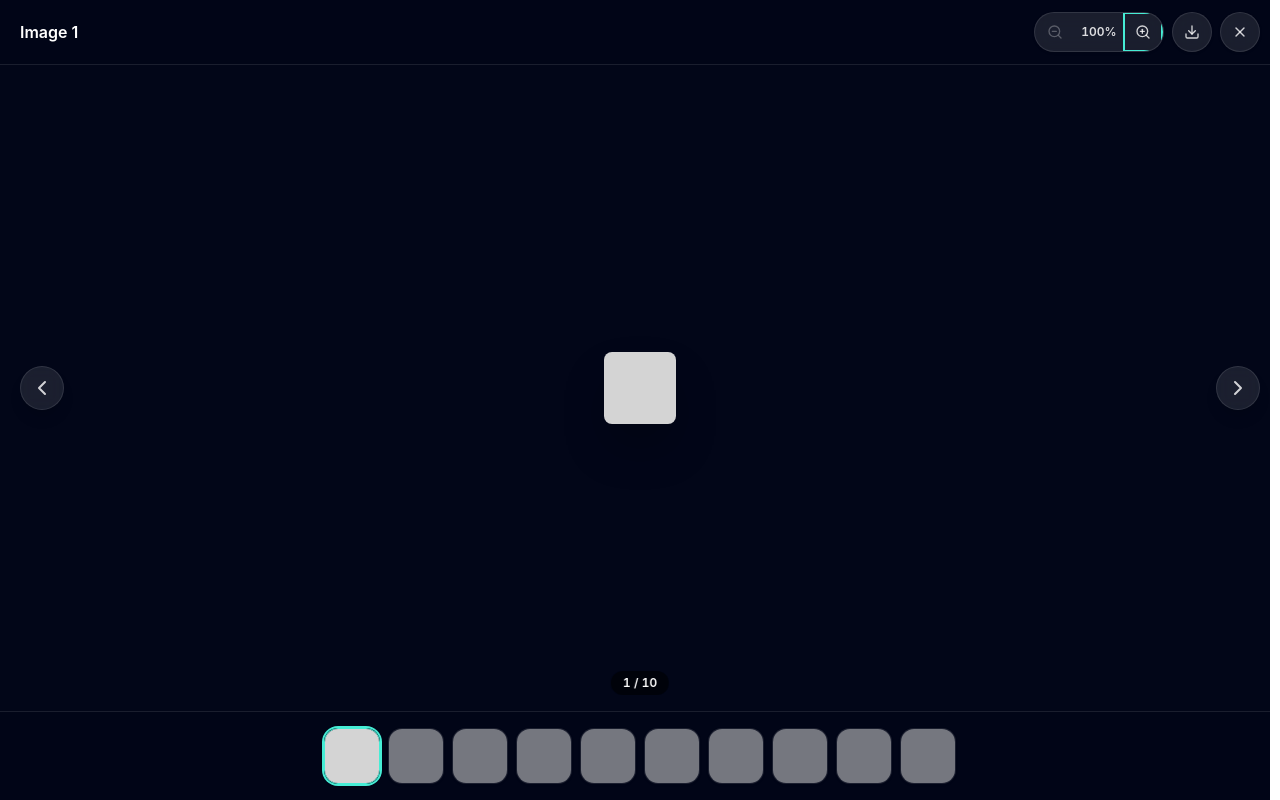
Test: PatientPhotoPreviewDialog › renders and navigates a 10-image gallery
Check: the heading "Image 1" is shown, box x1=20 y1=22 x2=78 y2=42
Check: the button named "Close" is shown, box x1=1220 y1=12 x2=1260 y2=52
Click the button named "next image": [1238, 388] box x1=1216 y1=366 x2=1260 y2=410
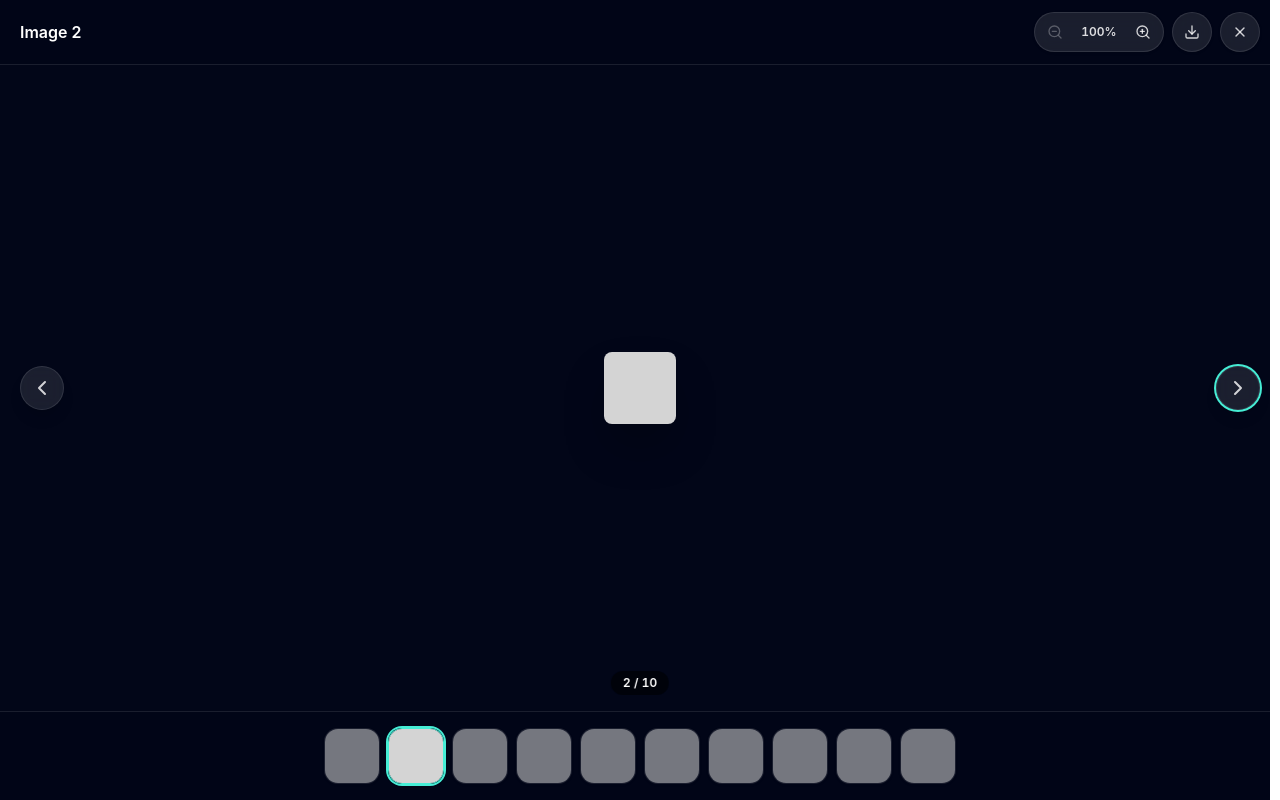
Check: the heading "Image 2" is shown, box x1=20 y1=22 x2=82 y2=42
Check: the text "2 / 10" is shown, box x1=611 y1=671 x2=669 y2=695
Click the button named "previous image": [42, 388] box x1=20 y1=366 x2=64 y2=410
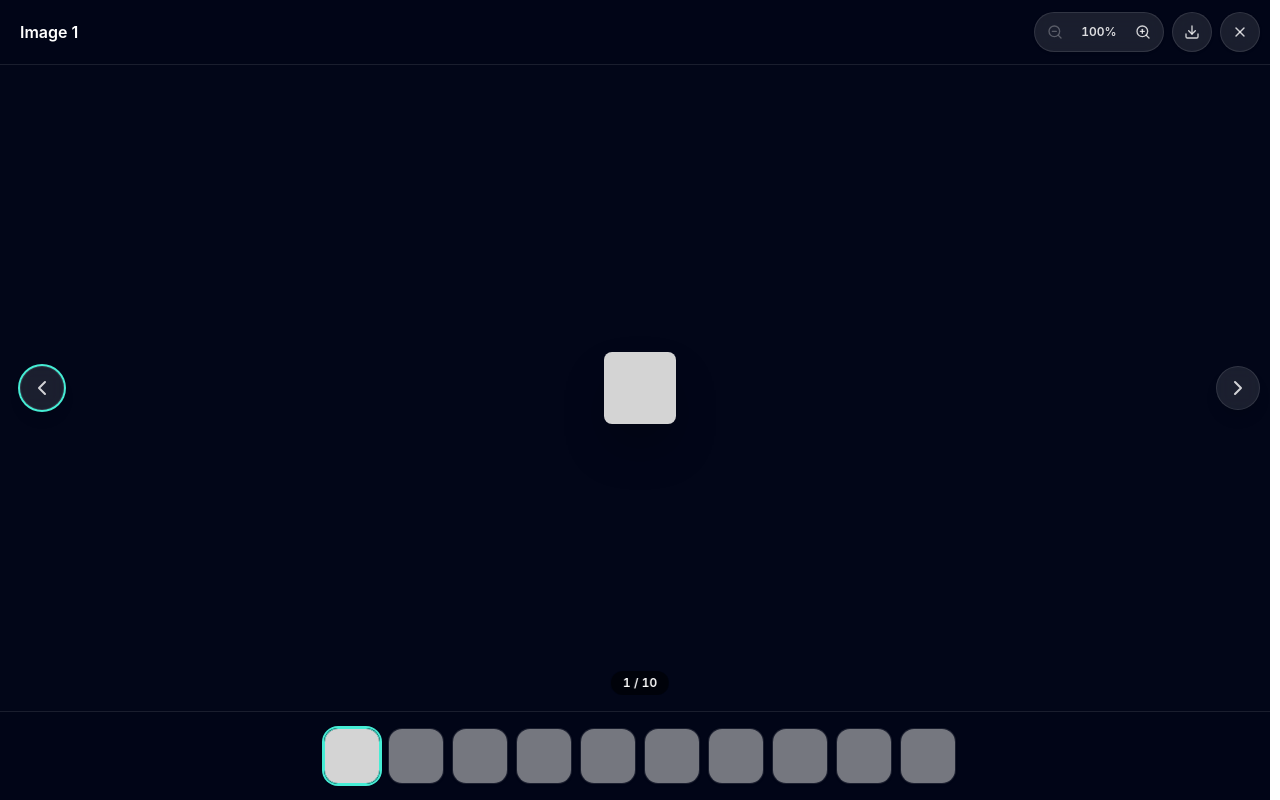
Check: the heading "Image 1" is shown, box x1=20 y1=22 x2=78 y2=42
